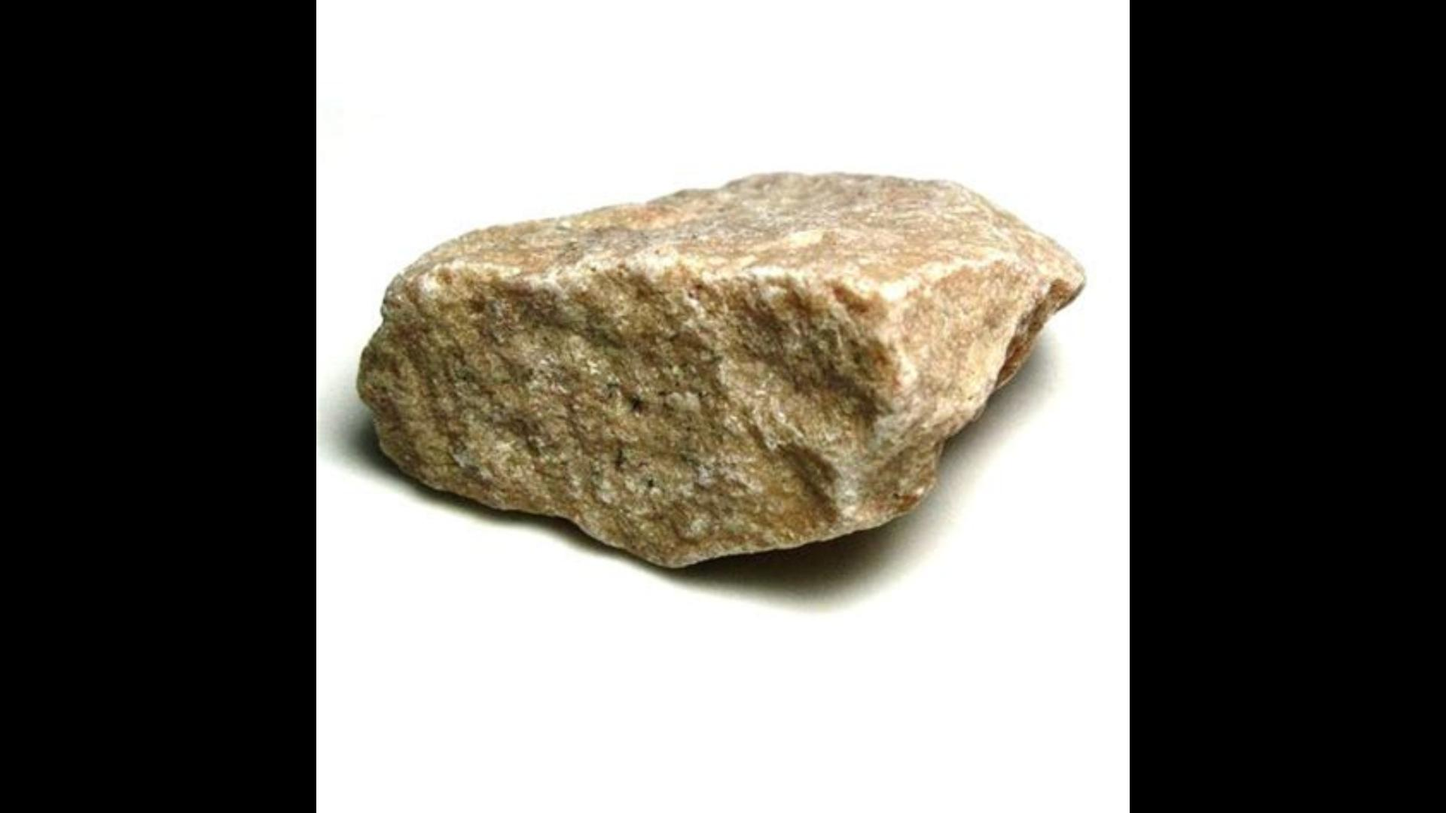rock: (357, 175, 1083, 564)
